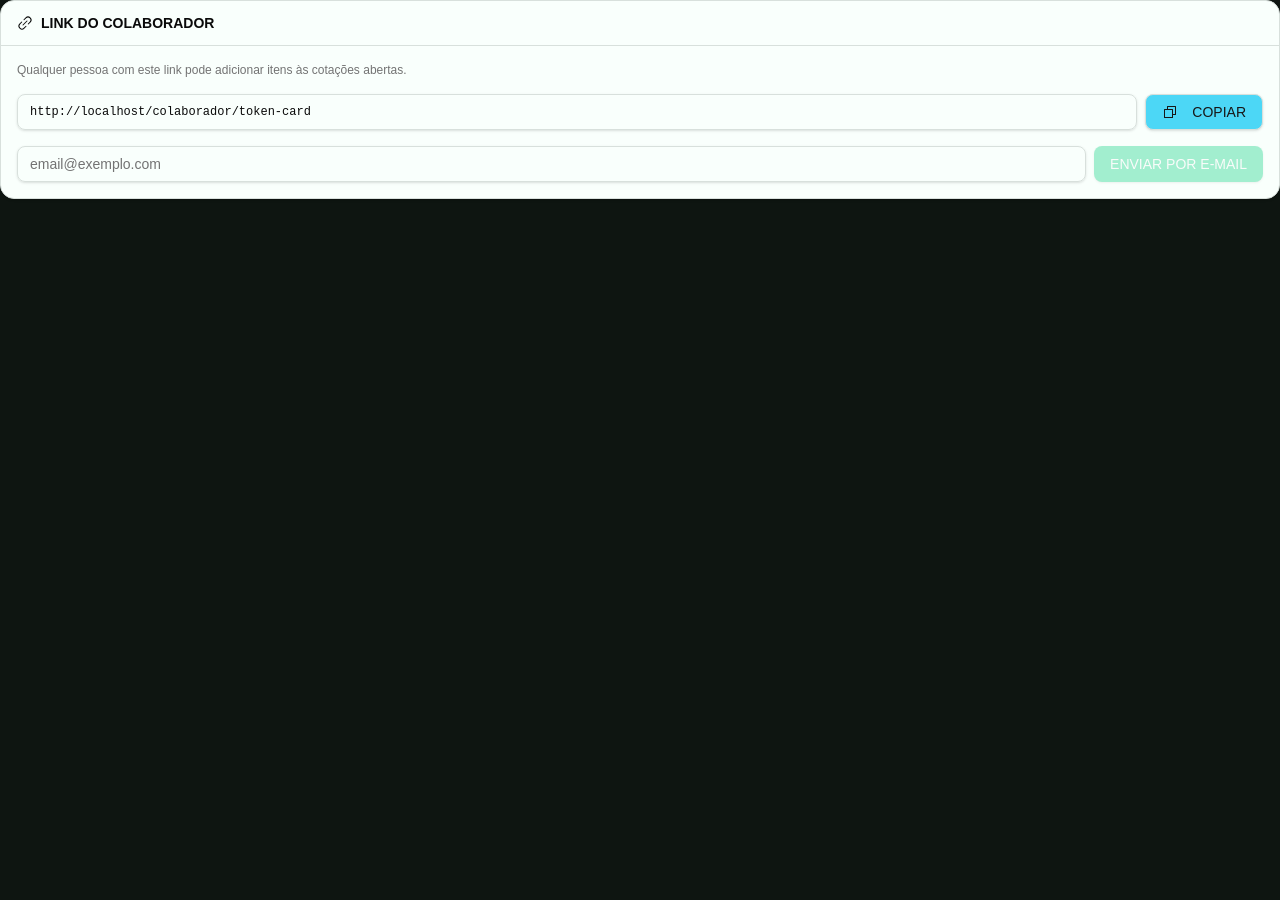
Test: exibe o link absoluto e copiar escreve na área de transferência com toast
Click the button "Copiar" at [1204, 112], box [1145,94,1263,130]
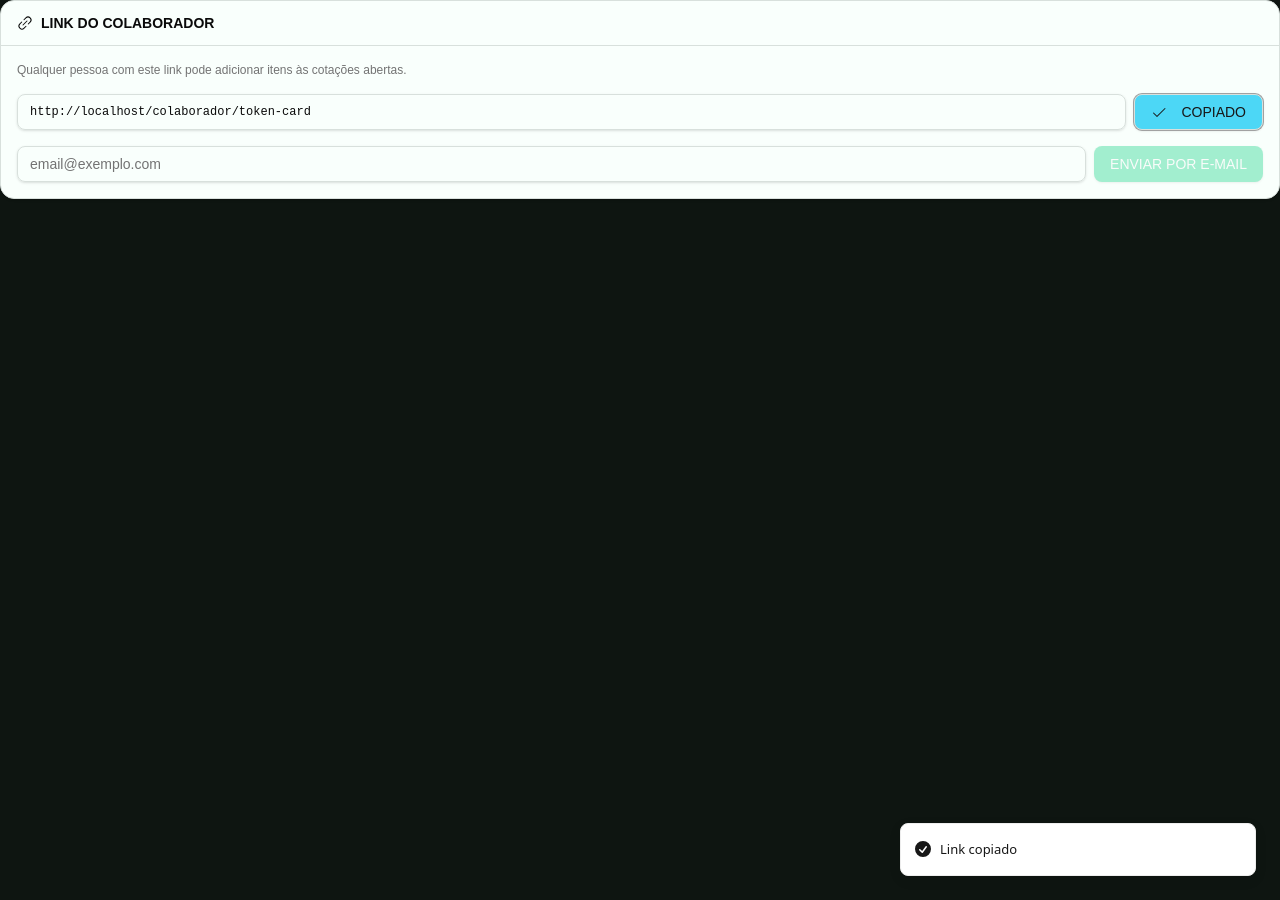
Check: the text "Link copiado" is shown, box [940,840,1017,859]
